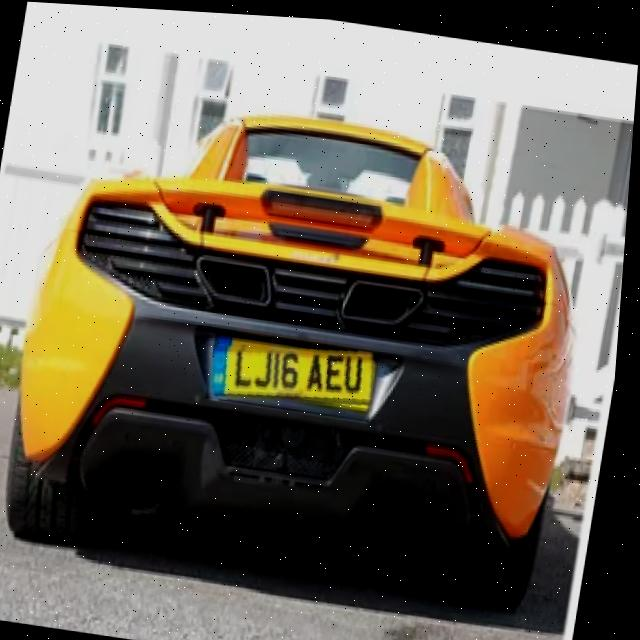LicensePlate: (218, 348, 380, 400)
